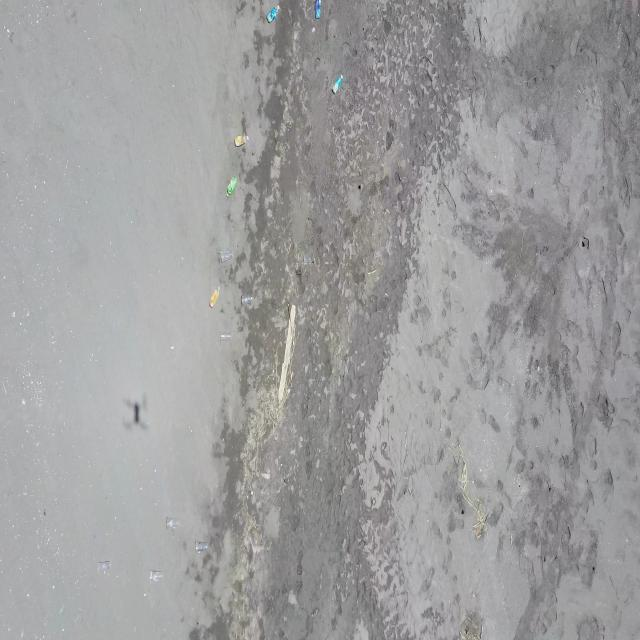Garbage: (452, 443, 487, 537), (279, 304, 295, 406), (460, 612, 482, 639), (295, 256, 312, 276), (266, 4, 279, 22), (208, 287, 219, 307), (332, 74, 343, 92), (226, 176, 236, 195), (96, 560, 110, 572), (220, 249, 232, 263), (148, 569, 163, 580), (233, 135, 247, 145), (313, 0, 320, 19), (196, 540, 207, 552), (166, 516, 176, 527), (301, 255, 312, 264), (240, 295, 252, 303), (220, 332, 231, 340), (580, 236, 588, 247)
